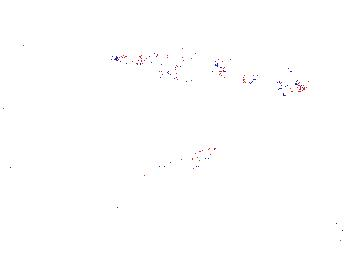glassfish: (108, 145, 218, 200)
redtail glassfish: (145, 49, 235, 75), (240, 71, 307, 94), (281, 46, 333, 73), (110, 52, 166, 76)
